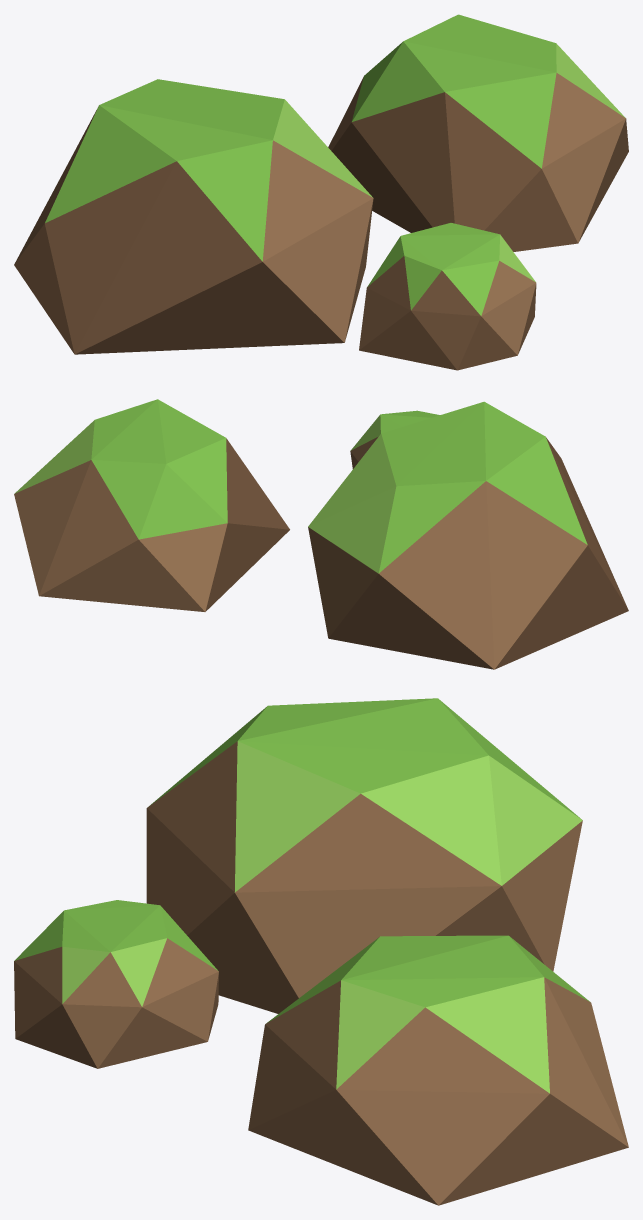
The model's file is rock_largeE.glb.
3 renders of one model, top to bottom at view 1: azimuth 30°, elevation 25°; view 2: azimuth 150°, elevation 25°; view 3: azimuth 270°, elevation 25°, orthographic. The views are drawn at different scales.
Visible parts, largest first — view 1: rock_largeE; view 2: rock_largeE; view 3: rock_largeE.
Boxes of the visible parts, x1,y1,x2,y2 form: rock_largeE: (14,14,628,370); rock_largeE: (14,399,628,669); rock_largeE: (14,698,628,1205).
Bounding box in the file's own units: 1.03 × 0.2879 × 0.7543.
1 material, 1 textured.
